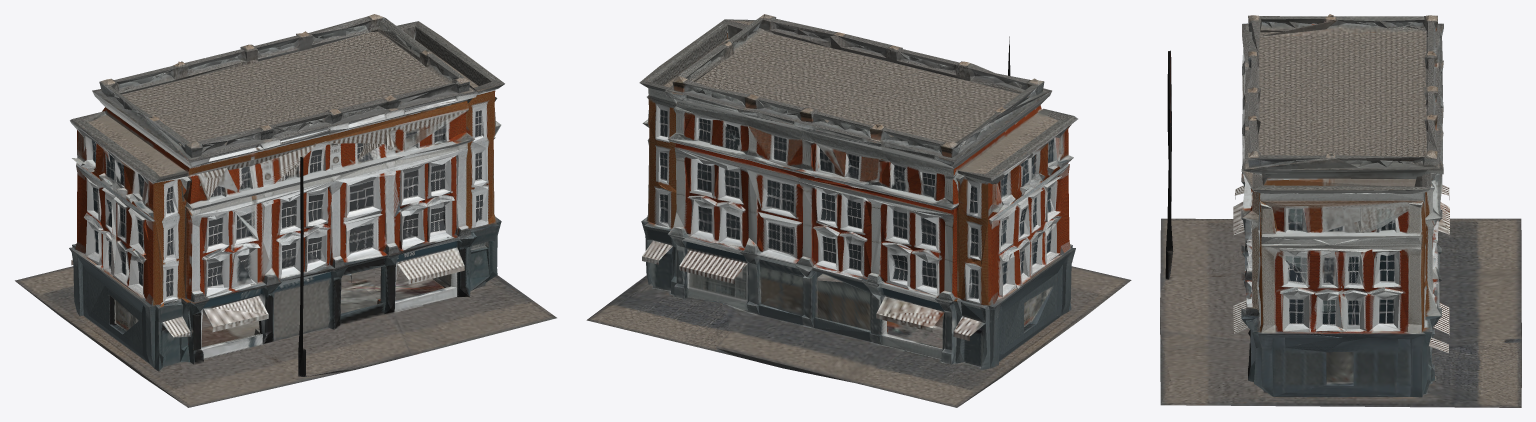
File: office.glb
3 views of the same model, side by side, from view 1: azimuth 30°, elevation 25°; view 2: azimuth 150°, elevation 25°; view 3: azimuth 270°, elevation 25° (orthographic). The views are drawn at different scales.
Size of the model in its own units: 1.9 by 1.1 by 1.56.
1 material, 1 textured.
